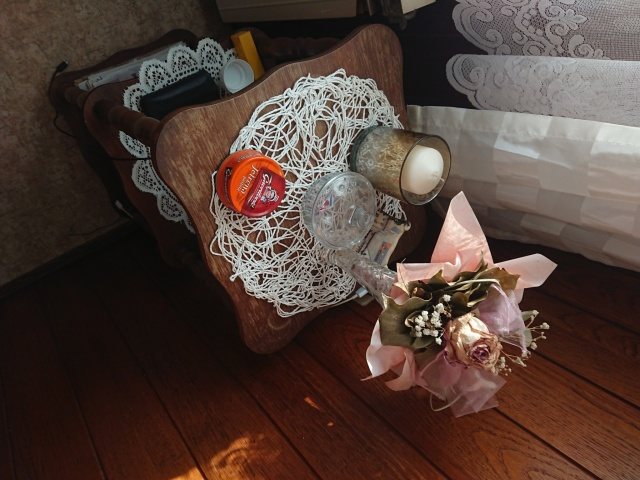Gavrilovic Pork Liver Pate 100g: (212, 147, 286, 218)
